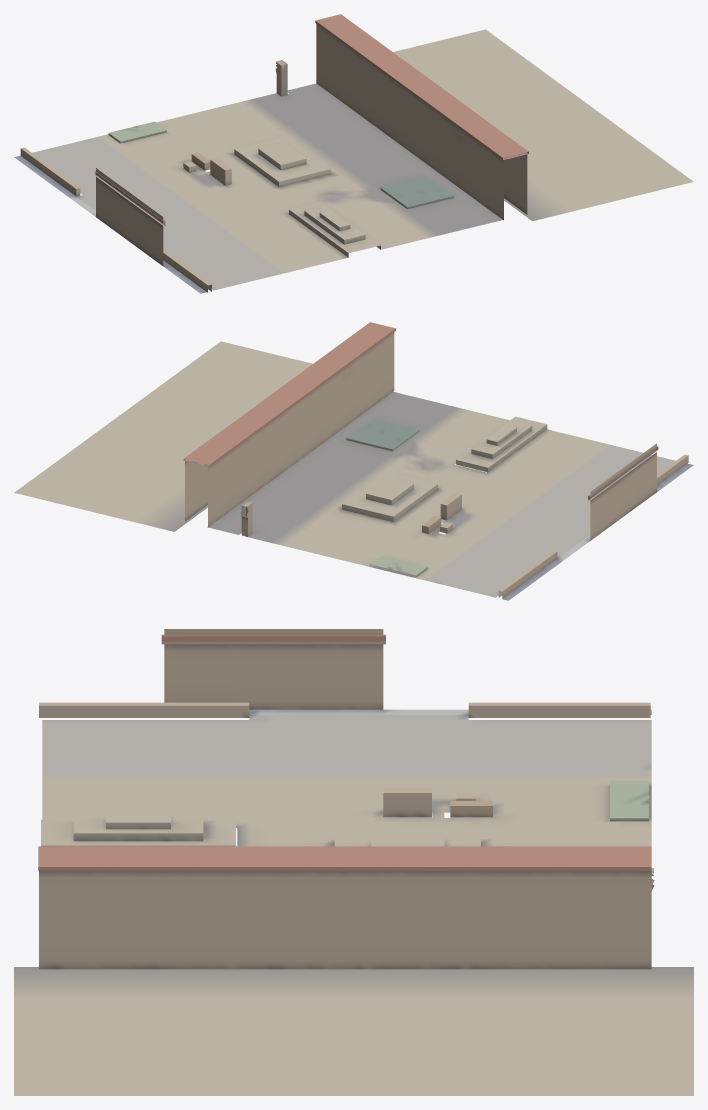
The picture shows the model from 3 angles, top to bottom: view 1: azimuth 30°, elevation 25°; view 2: azimuth 150°, elevation 25°; view 3: azimuth 270°, elevation 25°; orthographic projection. The views are drawn at different scales.
Visible parts, largest first — view 1: t; view 2: t; view 3: t.
Part boxes in pixels (left/top/right/bottom): t: left=14, top=14, right=693, bottom=293; t: left=14, top=322, right=693, bottom=600; t: left=14, top=629, right=693, bottom=1095.
Size of the model in its own units: 75.1 by 9.35 by 55.81.
